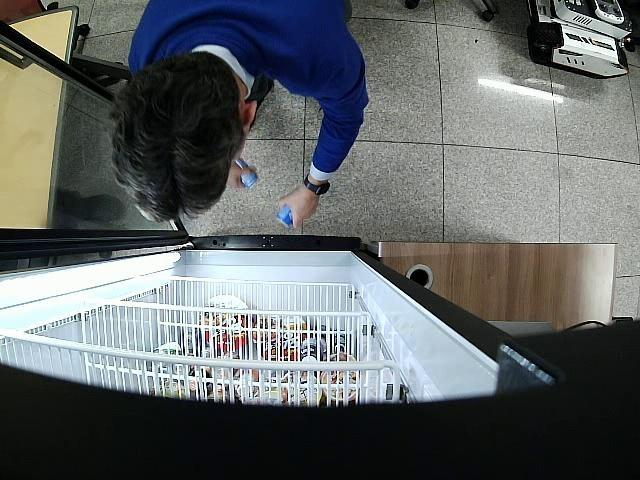15_letsbe: (236, 158, 262, 188), (277, 204, 294, 228)
